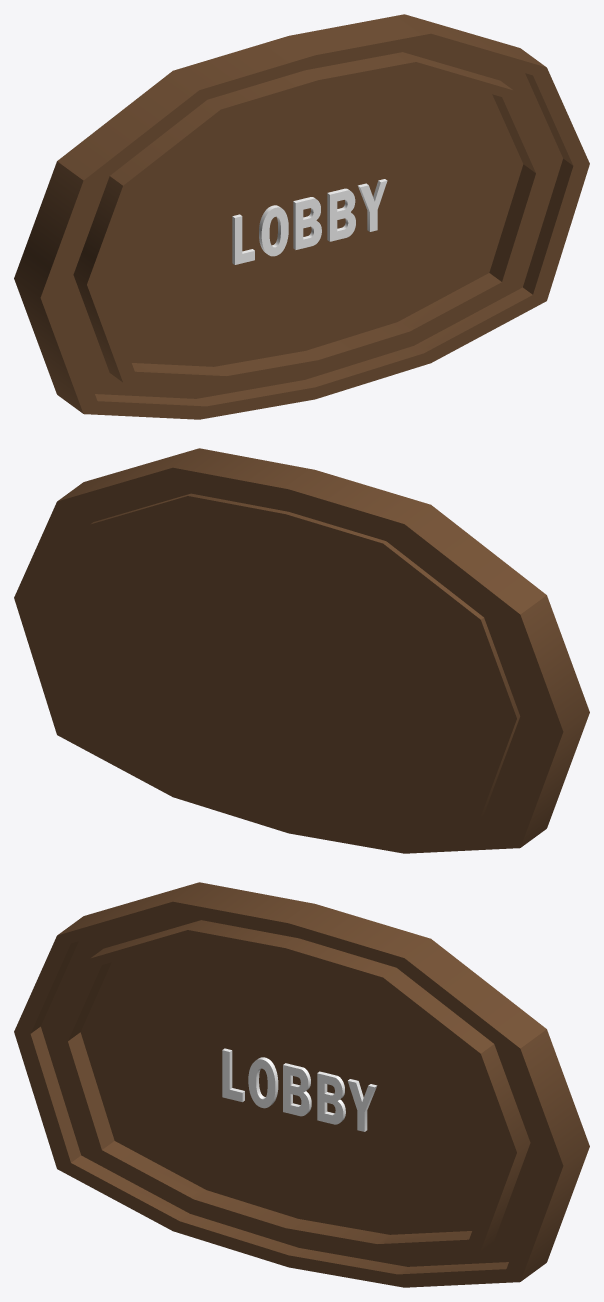
The model's file is lobbysign.glb.
3 renders of one model, top to bottom at view 1: azimuth 30°, elevation 25°; view 2: azimuth 150°, elevation 25°; view 3: azimuth 330°, elevation 25°, orthographic.
Parts seen in each view (by area): view 1: polySurface6, polySurface5, B1, B2, O5, Y1, L2; view 2: polySurface6, polySurface5; view 3: polySurface6, polySurface5, B1, B2, O5, Y1, L2.
Part boxes in pixels (x1,y1,x2,y2): polySurface6: [73, 52, 549, 387]; polySurface5: [14, 14, 589, 419]; B1: [327, 188, 355, 241]; B2: [293, 197, 321, 249]; O5: [259, 205, 288, 256]; Y1: [358, 179, 387, 231]; L2: [232, 214, 254, 264]; polySurface6: [54, 493, 520, 821]; polySurface5: [14, 448, 589, 853]; polySurface6: [54, 920, 530, 1255]; polySurface5: [14, 882, 589, 1287]; B1: [317, 1071, 345, 1124]; B2: [283, 1063, 311, 1116]; O5: [248, 1057, 278, 1108]; Y1: [348, 1079, 377, 1131]; L2: [222, 1048, 244, 1102].
Bounding box in the file's own units: 0.5812 × 0.3479 × 0.0604.
Materials: 1 (1 with a texture image).
